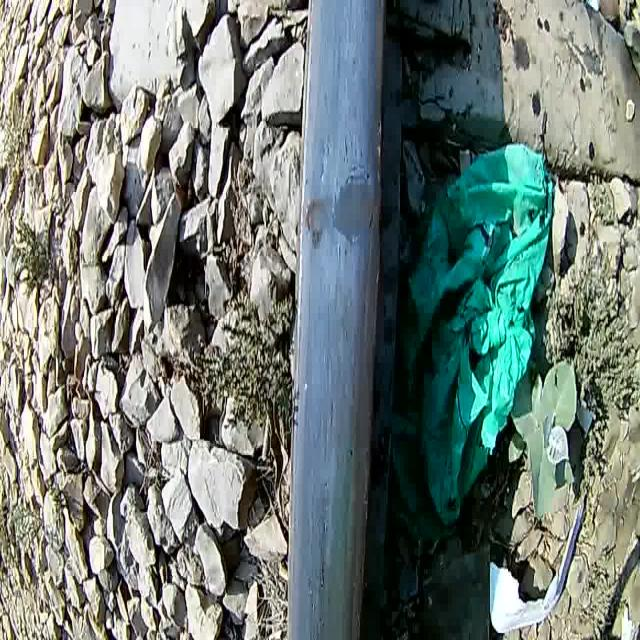Squats: (256, 0, 415, 640)
